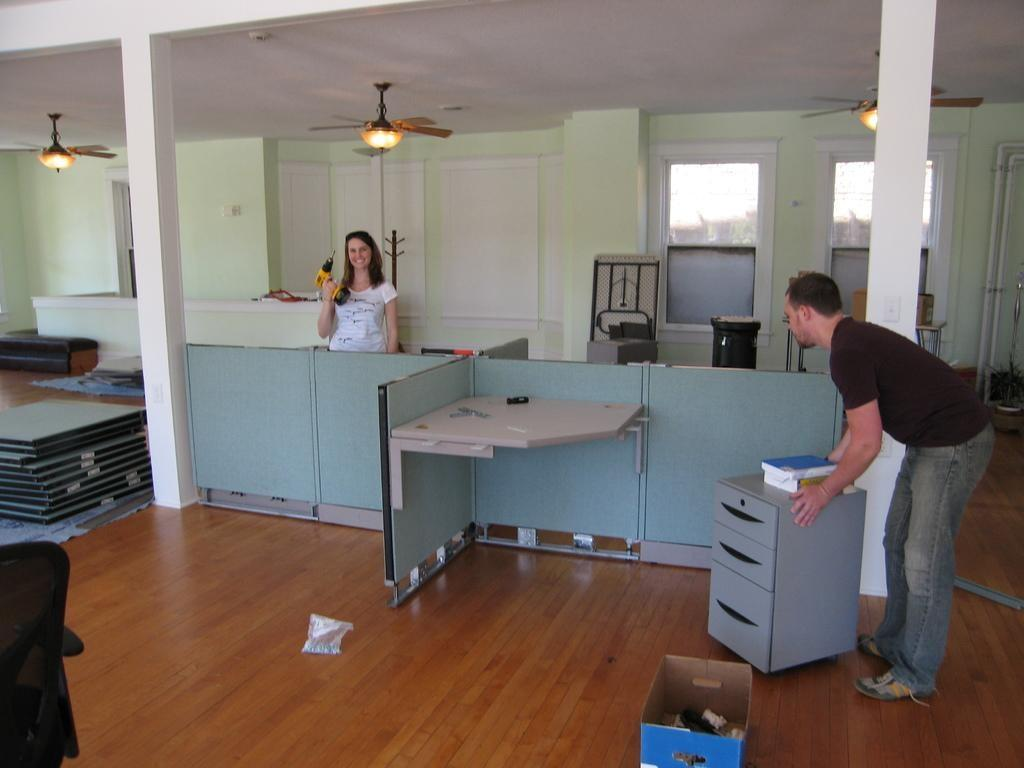Filing Cabinet: (704, 480, 780, 676)
